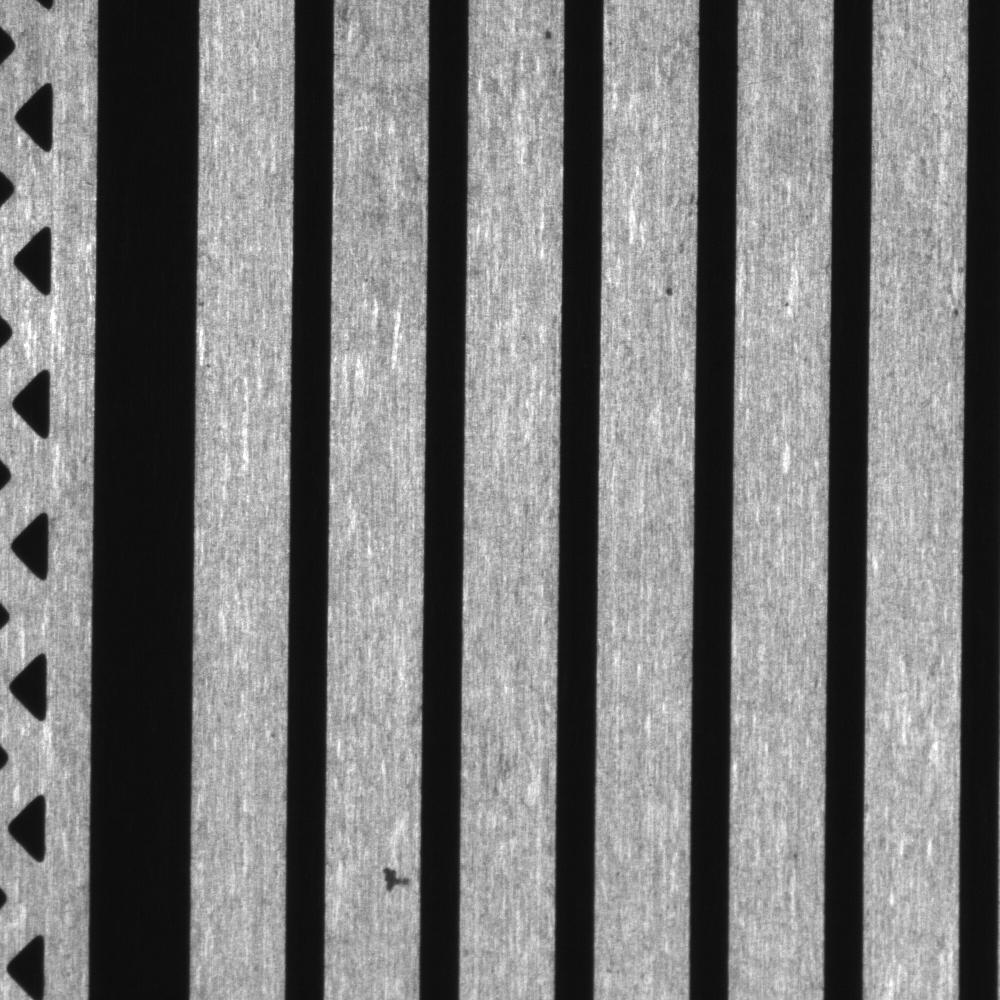Etching: (372, 856, 414, 900)
Pinhole: (536, 19, 559, 48), (658, 278, 680, 303)
